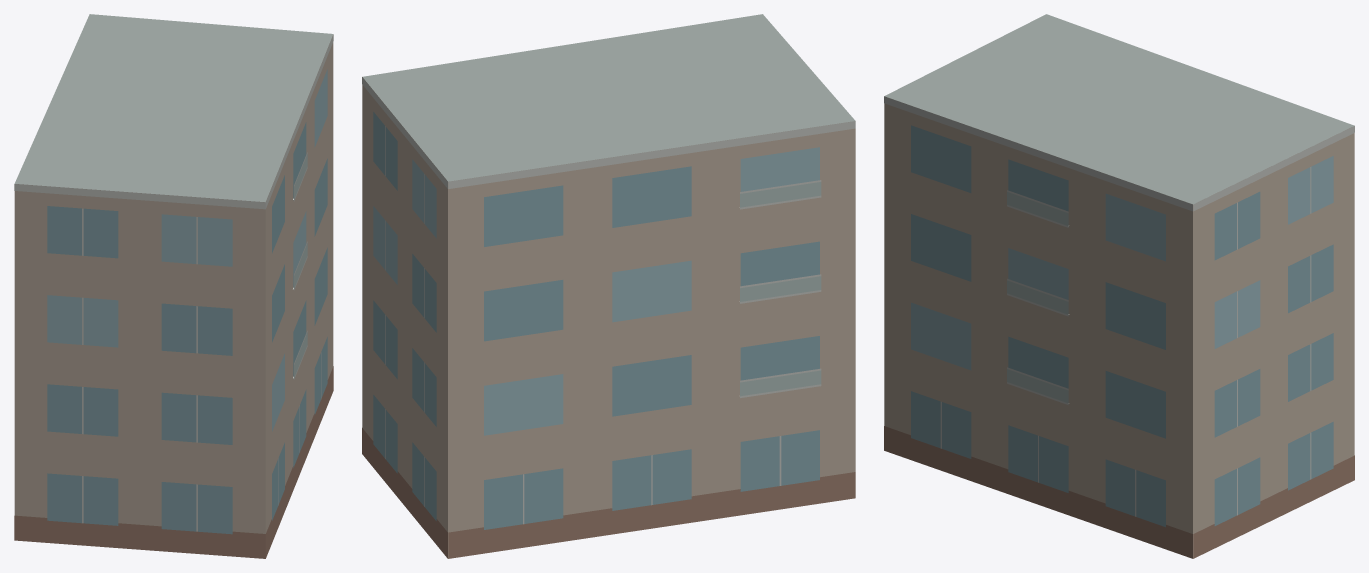
File: survey-upis-32883335.glb
3 views of the same model, side by side, from view 1: azimuth 30°, elevation 25°; view 2: azimuth 150°, elevation 25°; view 3: azimuth 270°, elevation 25° (orthographic). The views are drawn at different scales.
Visible parts, largest first — view 1: survey-upis-32883335.tmp; view 2: survey-upis-32883335.tmp; view 3: survey-upis-32883335.tmp.
Boxes of the visible parts, x1,y1,x2,y2 form: survey-upis-32883335.tmp: (14, 14, 333, 558); survey-upis-32883335.tmp: (362, 14, 855, 558); survey-upis-32883335.tmp: (884, 14, 1354, 558).
Bounding box in the file's own units: 14.07 × 12.2 × 14.69.
